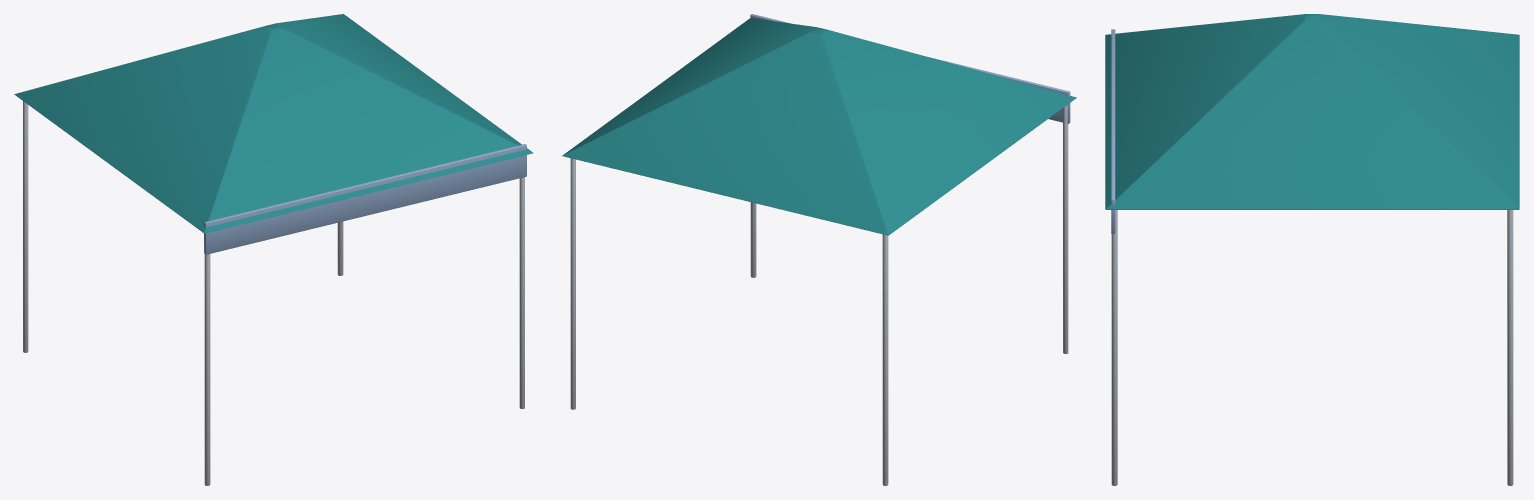
Rendered from festival-booth-en-654b41a1f5ea.glb.
3 views of the same model, side by side, from view 1: azimuth 30°, elevation 25°; view 2: azimuth 150°, elevation 25°; view 3: azimuth 270°, elevation 25° (orthographic). The views are drawn at different scales.
Visible parts, largest first — view 1: Peak_Canopy, Valance_Front, Mesh_Truss_Aluminum; view 2: Peak_Canopy, Mesh_Truss_Aluminum, Valance_Front; view 3: Peak_Canopy, Mesh_Truss_Aluminum, Valance_Front.
Boxes of the visible parts, left/top/right/bottom form: Peak_Canopy: left=14, top=14, right=533, bottom=233; Valance_Front: left=204, top=144, right=526, bottom=254; Mesh_Truss_Aluminum: left=23, top=101, right=524, bottom=485; Peak_Canopy: left=562, top=18, right=1076, bottom=235; Mesh_Truss_Aluminum: left=570, top=105, right=1068, bottom=485; Valance_Front: left=750, top=14, right=1070, bottom=123; Peak_Canopy: left=1105, top=14, right=1519, bottom=209; Mesh_Truss_Aluminum: left=1111, top=210, right=1513, bottom=485; Valance_Front: left=1111, top=29, right=1115, bottom=233.
Bounding box in the file's own units: 3.04 × 3.11 × 3.04.
3 materials, 1 textured.
